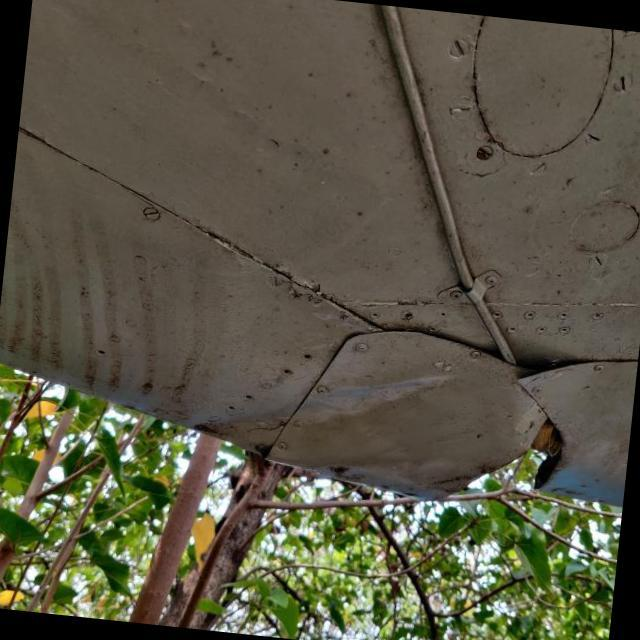Dent: (176, 336, 493, 517)
